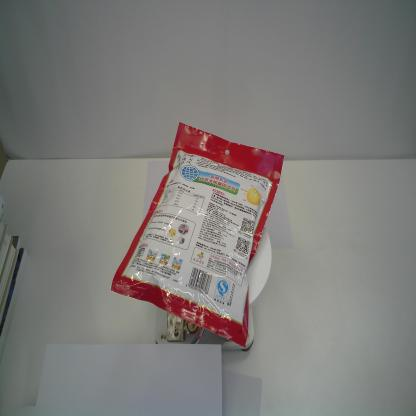Instant Drink: (110, 120, 285, 351)
